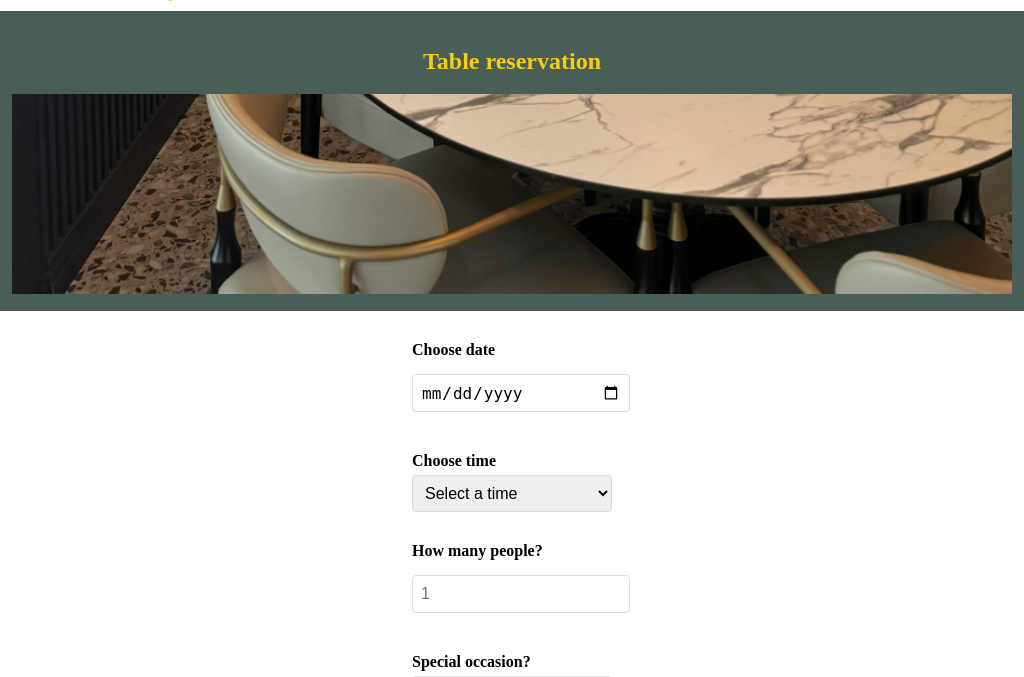
test BookingForm component › ReservePage Form Validation › When guests input is 0 disables submit button
Type "0" into the number field with test id "guests". click: (521, 594)
box: [412,575,630,613]
(page scrolled)
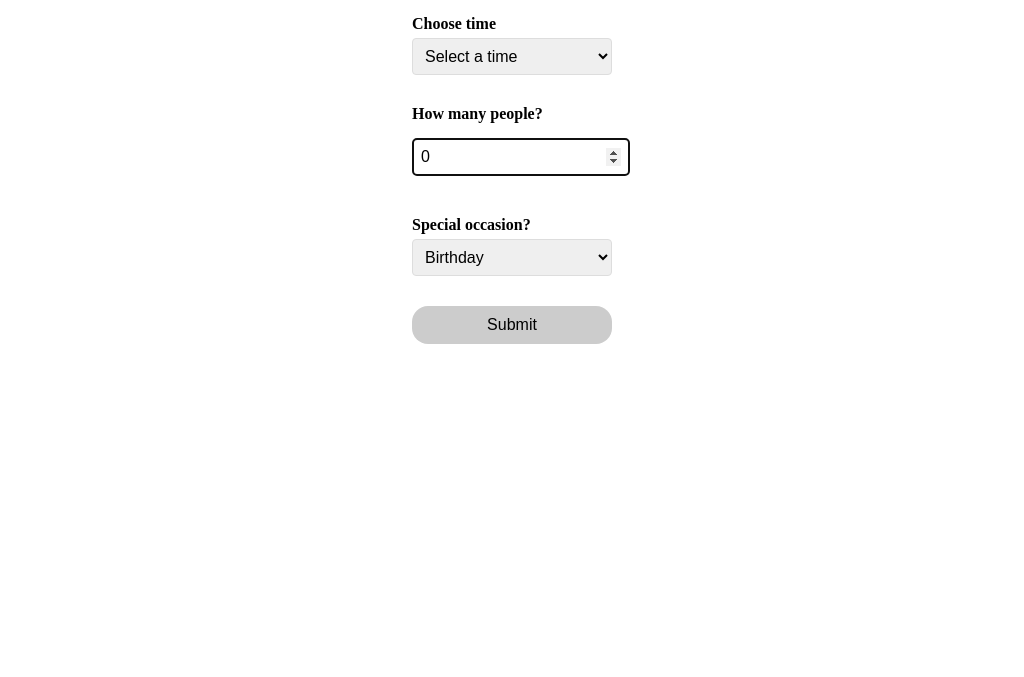
Now the button with test id "submit" is disabled, box [412,306,612,344]
